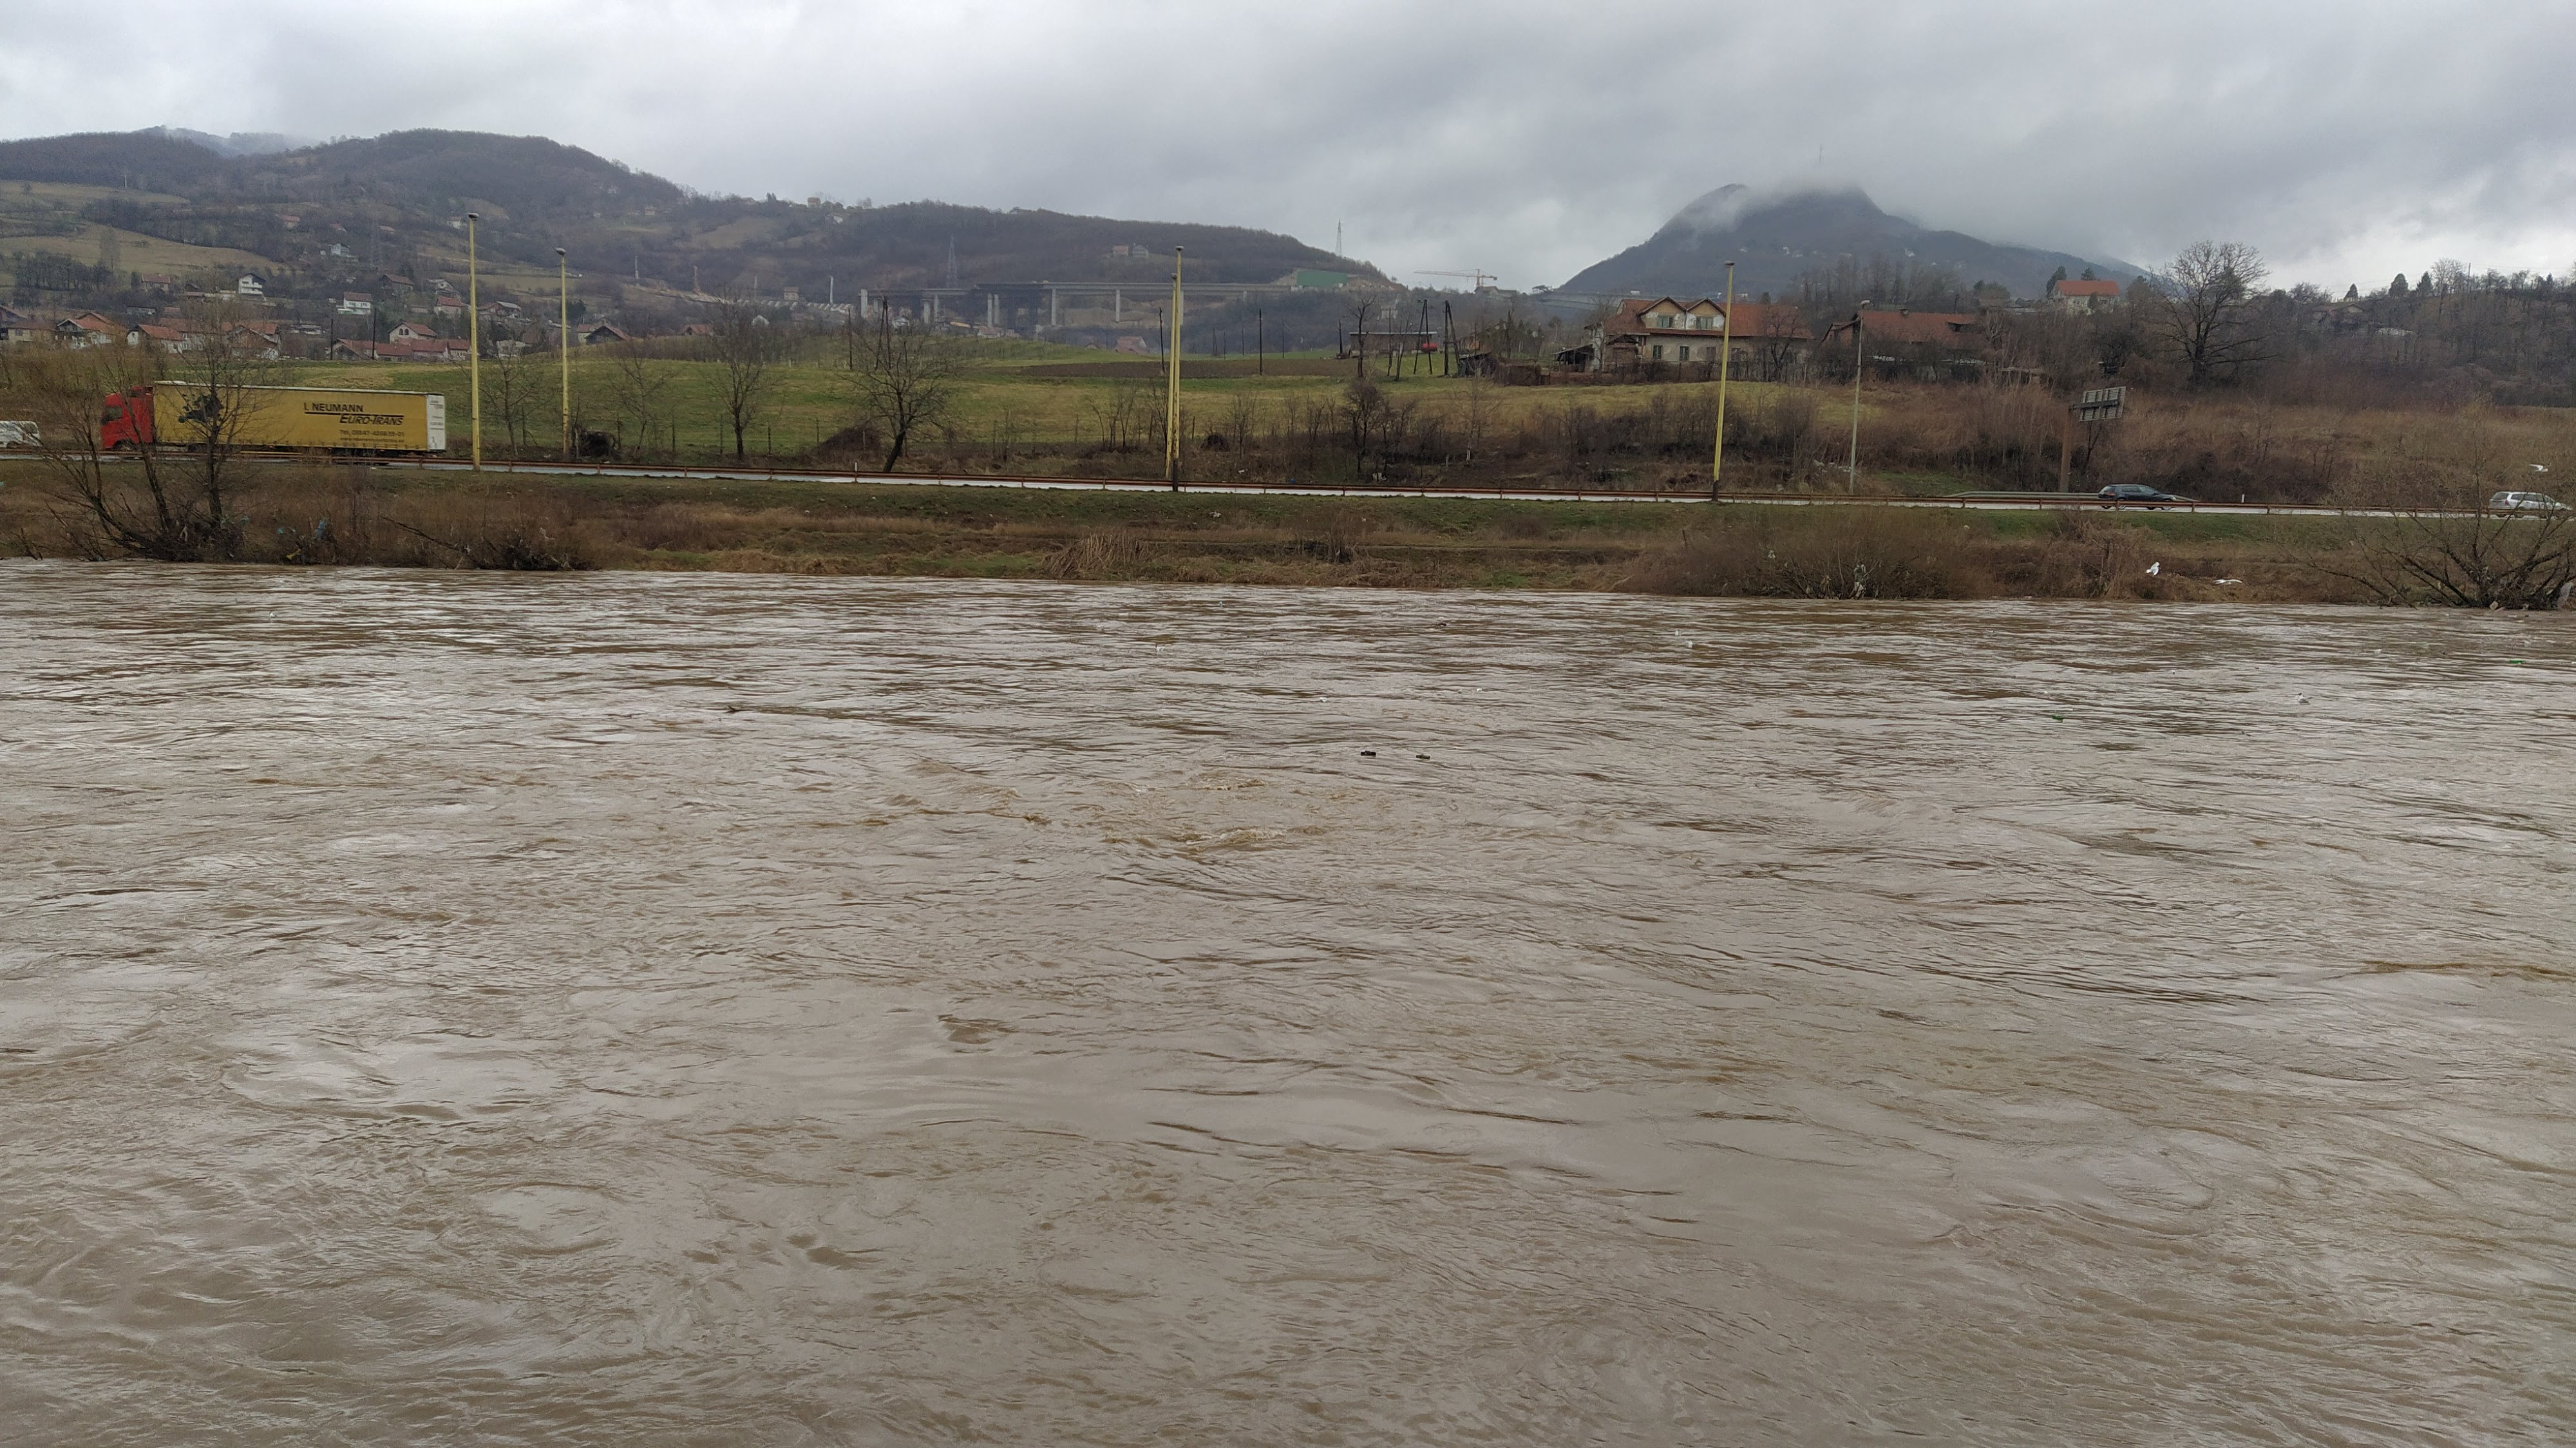Plastic Bottle: (1359, 749, 1378, 756), (2511, 659, 2525, 664), (1417, 754, 1430, 759), (2051, 713, 2063, 719), (2374, 648, 2381, 653), (1322, 696, 1325, 701), (2511, 614, 2516, 618), (2171, 669, 2173, 673)
